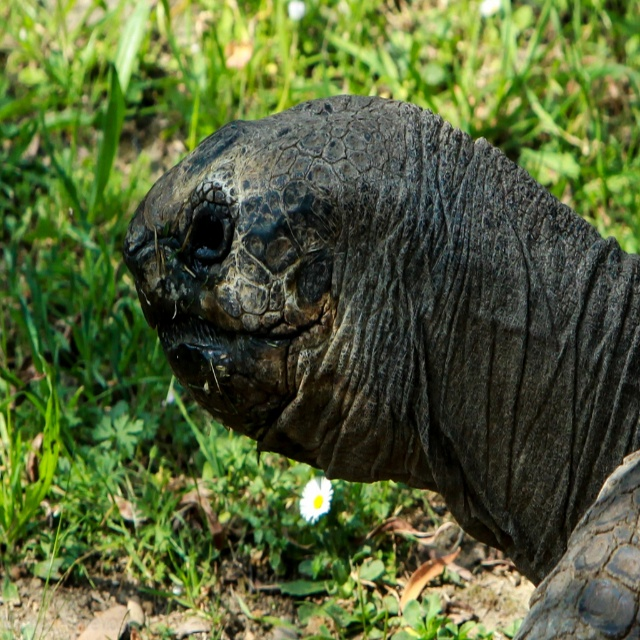Tortoise: (122, 94, 640, 640)
